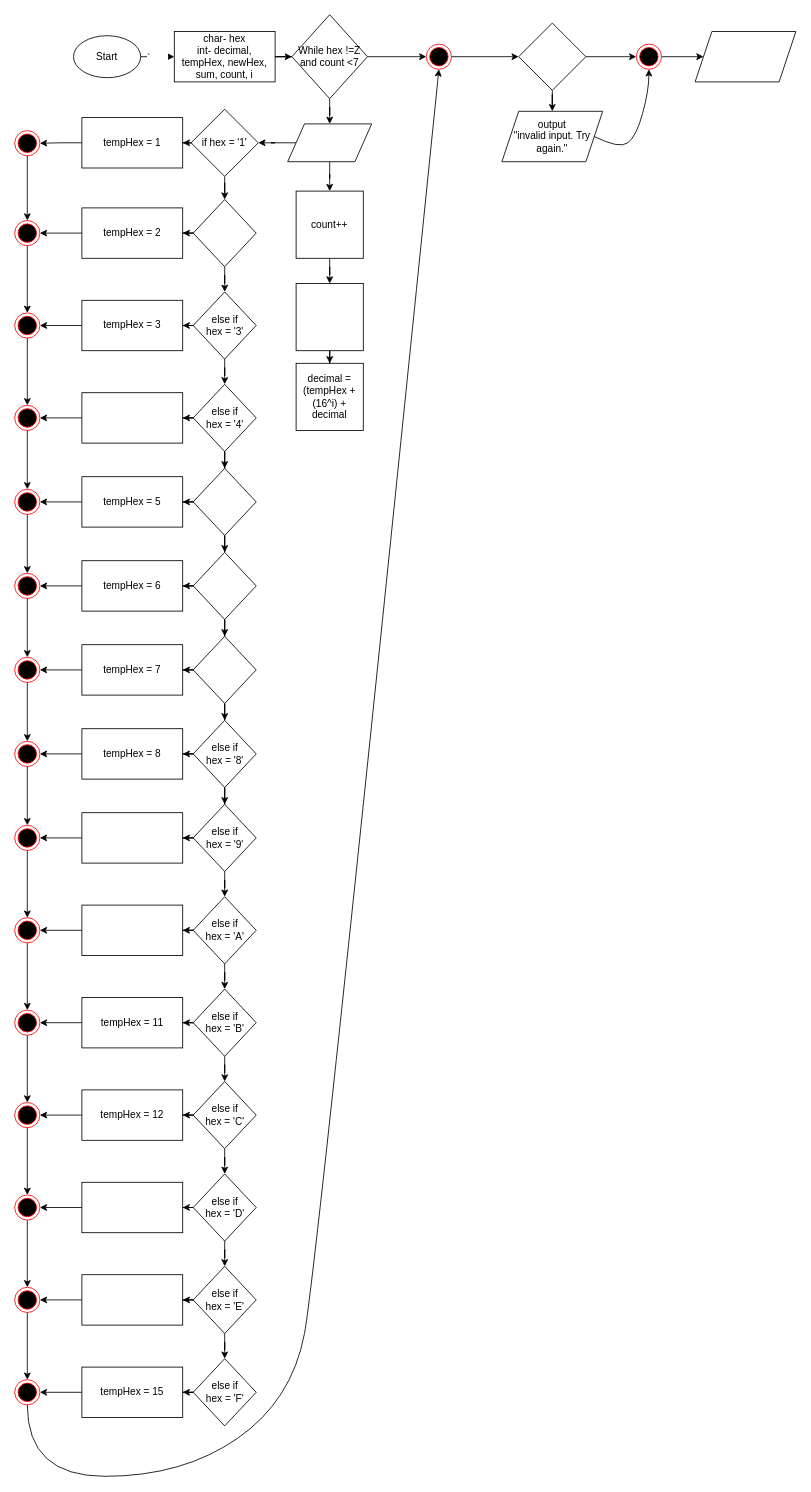
This 811x1492 diagram has some shape labels left out. Each missing label, with the centre of its shape:
"else if hex = '2'" belongs at point (224, 233).
"else if hex = '5'" belongs at point (224, 501).
"else if hex = '6'" belongs at point (224, 585).
"else if hex = '7'" belongs at point (224, 669).
"i++" belongs at point (329, 317).
"if count <1 or count > 7" belongs at point (552, 56).
"output decimal value" belongs at point (745, 56).
"prompt and input hex" belongs at point (329, 142).
"tempHex = 10" belongs at point (132, 930).
"tempHex = 13" belongs at point (132, 1207).
"tempHex = 14" belongs at point (132, 1299).
"tempHex = 4" belongs at point (132, 417).
"tempHex = 9" belongs at point (132, 837).
